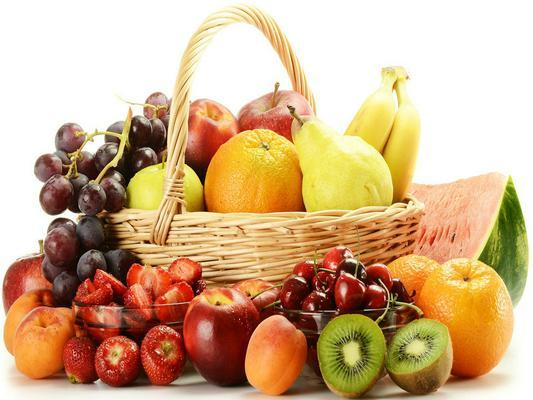apple: (183, 285, 262, 388), (243, 314, 308, 395), (10, 297, 75, 377), (236, 83, 318, 140), (181, 99, 238, 174), (3, 253, 53, 313)
